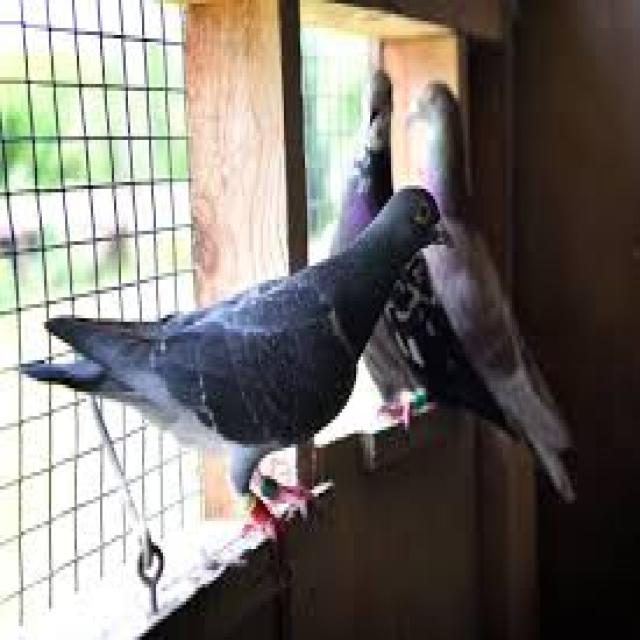pigeon: (29, 173, 457, 529)
